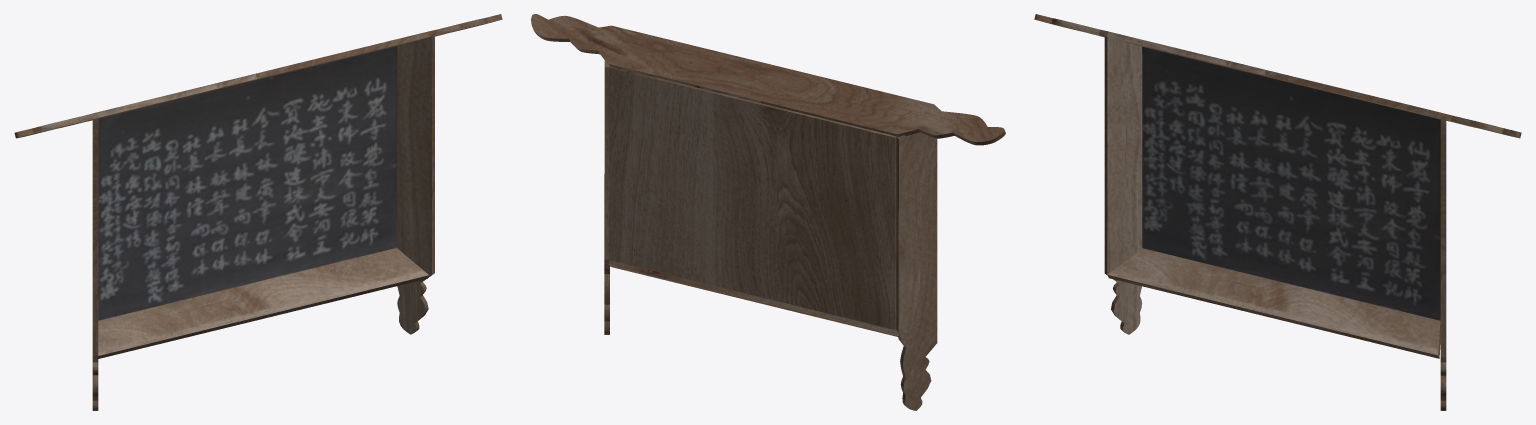
Rendered from SM_Sun_Kak_Sign_A.fbx.
3 renders of one model, left to right at view 1: azimuth 30°, elevation 25°; view 2: azimuth 150°, elevation 25°; view 3: azimuth 330°, elevation 25°, orthographic. The views are drawn at different scales.
Parts seen in each view (by area): view 1: SM_Sun_Kak_Sign_A; view 2: SM_Sun_Kak_Sign_A; view 3: SM_Sun_Kak_Sign_A.
Part boxes in pixels (x1=…): SM_Sun_Kak_Sign_A: x1=14, y1=14, x2=502, y2=410; SM_Sun_Kak_Sign_A: x1=531, y1=14, x2=1005, y2=410; SM_Sun_Kak_Sign_A: x1=1034, y1=14, x2=1521, y2=410.
Size of the model in its own units: 104 by 63.34 by 8.14.
